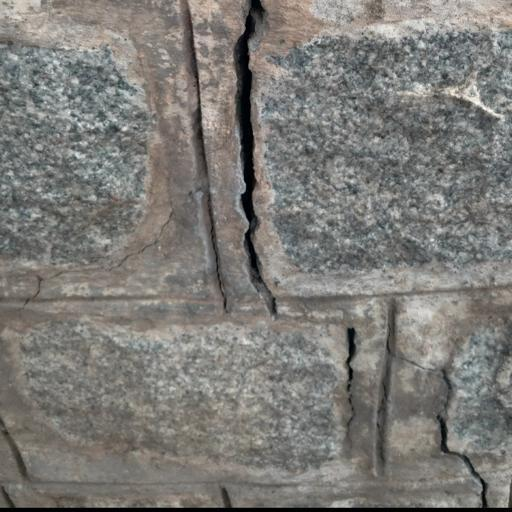major_crack: (217, 0, 371, 459), (387, 330, 499, 509)
